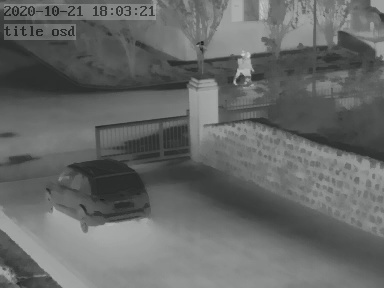person: (237, 50, 256, 87)
vehicle: (45, 158, 150, 230)
